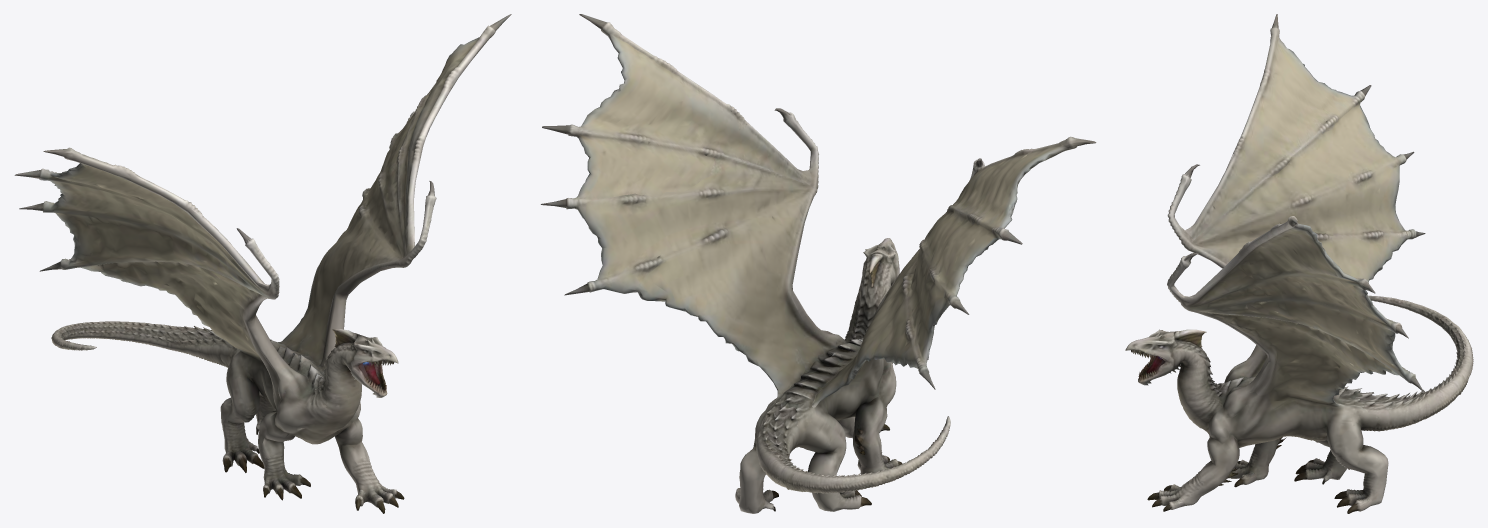
File: MZ4250 - Dragon White Ancient.glb
3 renders of one model, left to right at view 1: azimuth 30°, elevation 25°; view 2: azimuth 150°, elevation 25°; view 3: azimuth 270°, elevation 25°, orthographic. The views are drawn at different scales.
Parts seen in each view (by area): view 1: Head Base Sphere.001; view 2: Head Base Sphere.001; view 3: Head Base Sphere.001.
Part boxes in pixels (bbox=[...]): Head Base Sphere.001: bbox=[14, 14, 511, 513]; Head Base Sphere.001: bbox=[540, 14, 1096, 513]; Head Base Sphere.001: bbox=[1125, 14, 1473, 513].
Size of the model in its own units: 5.83 by 4.59 by 3.87.
Materials: 1 (1 with a texture image).
